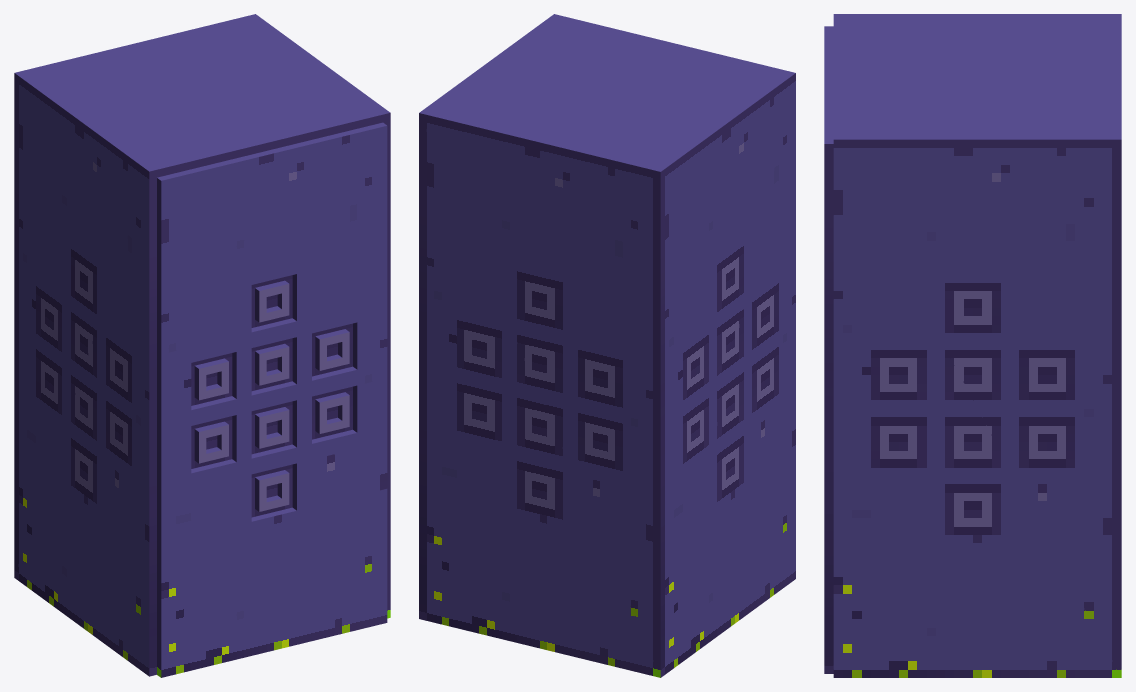
Rendered from 8bit_doorao.fezao.glb.
3 renders of one model, left to right at view 1: azimuth 30°, elevation 25°; view 2: azimuth 150°, elevation 25°; view 3: azimuth 270°, elevation 25°, orthographic. The views are drawn at different scales.
Visible parts, largest first — view 1: 8BIT_DOORAO; view 2: 8BIT_DOORAO; view 3: 8BIT_DOORAO.
Boxes of the visible parts, x1,y1,x2,y2 form: 8BIT_DOORAO: (14, 14, 390, 677); 8BIT_DOORAO: (419, 14, 795, 677); 8BIT_DOORAO: (824, 14, 1121, 677).
Bounding box in the file's own units: 2 × 4 × 2.
Materials: 1 (1 with a texture image).
